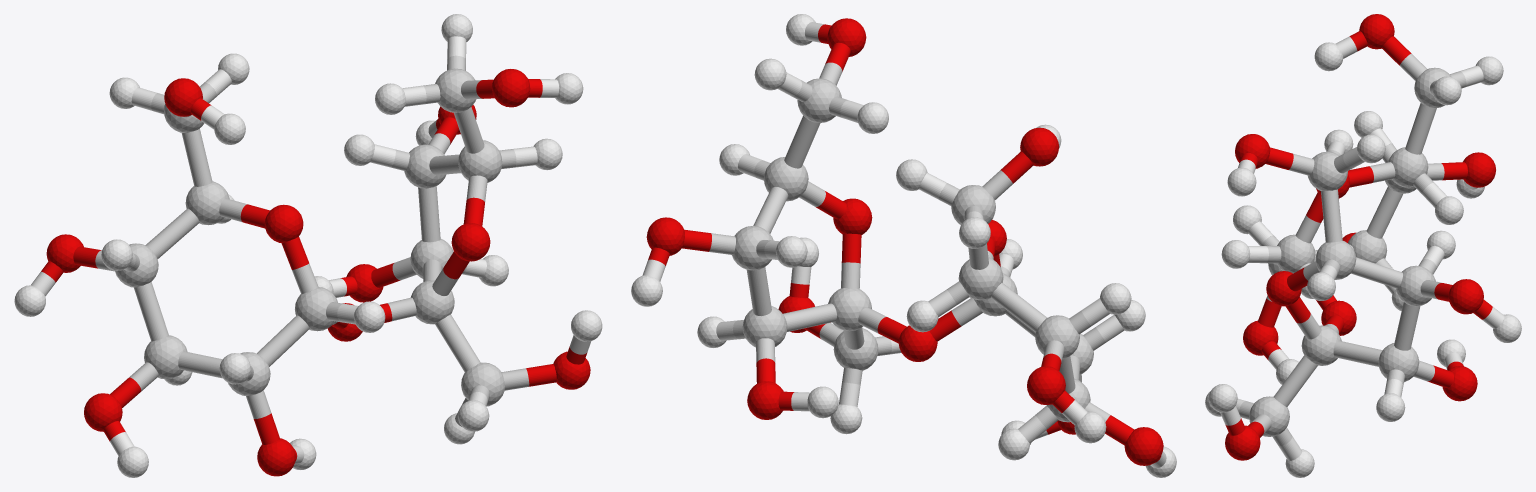
Rendered from sucrose.fbx.
The picture shows the model from 3 angles, left to right: view 1: azimuth 30°, elevation 25°; view 2: azimuth 150°, elevation 25°; view 3: azimuth 270°, elevation 25°; orthographic projection. The views are drawn at different scales.
Parts seen in each view (by area): view 1: sucrose; view 2: sucrose; view 3: sucrose.
Boxes of the visible parts, x1=… form: sucrose: x1=14, y1=14, x2=602, y2=477; sucrose: x1=631, y1=14, x2=1176, y2=477; sucrose: x1=1205, y1=14, x2=1521, y2=477.
Size of the model in its own units: 8511 by 6865 by 5516.
